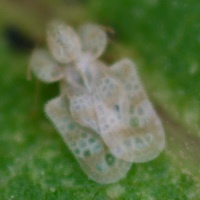insect: (30, 22, 164, 182)
